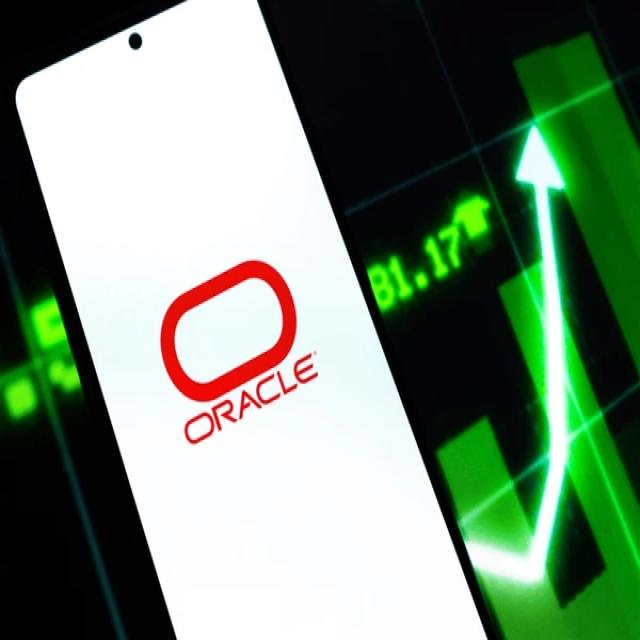oracle: (182, 350, 320, 446)
